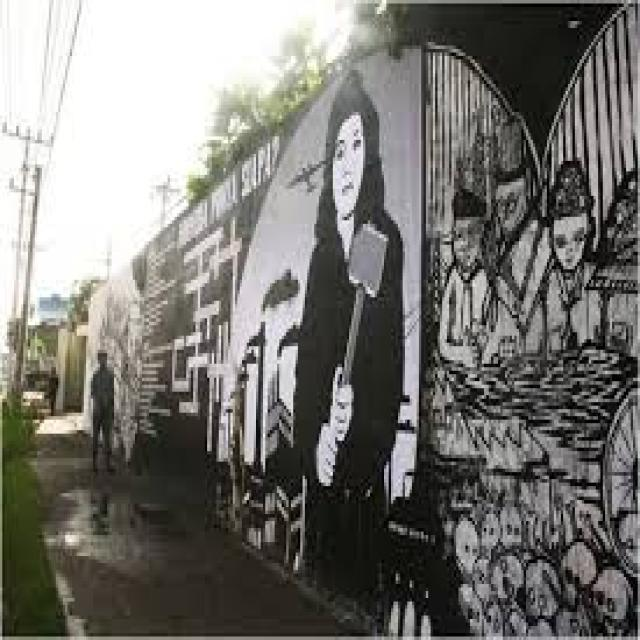-: (139, 41, 425, 640), (421, 3, 638, 640), (98, 266, 137, 462)
